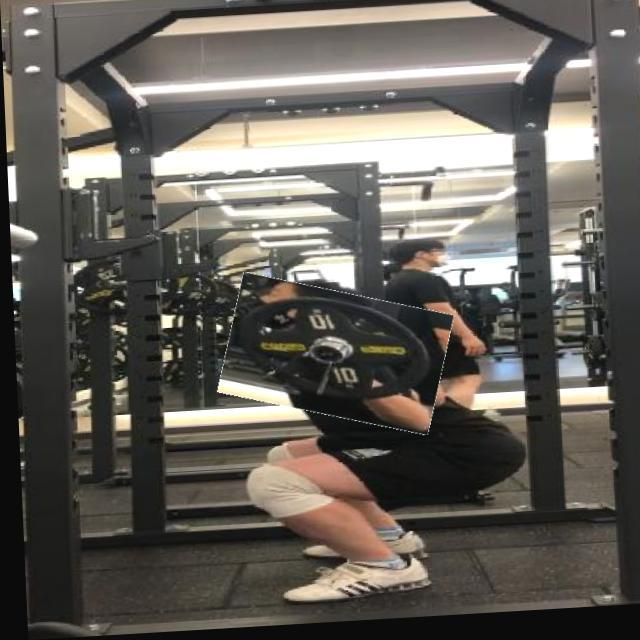barbell: (216, 280, 449, 438)
